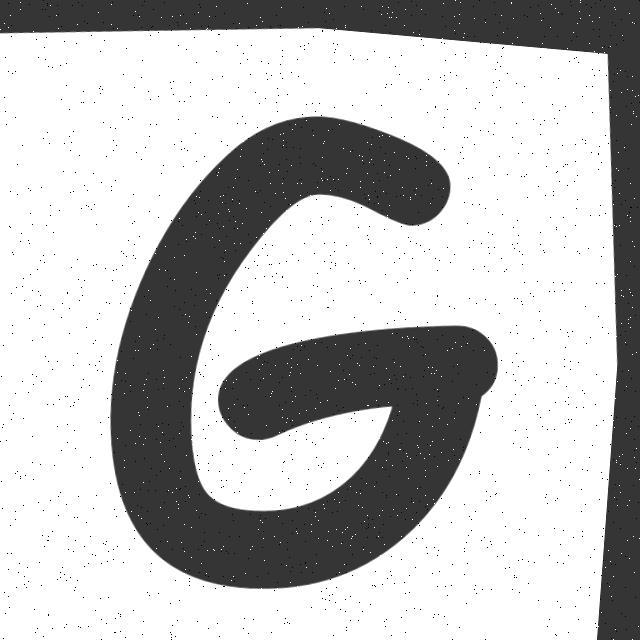G: (117, 110, 502, 582)
